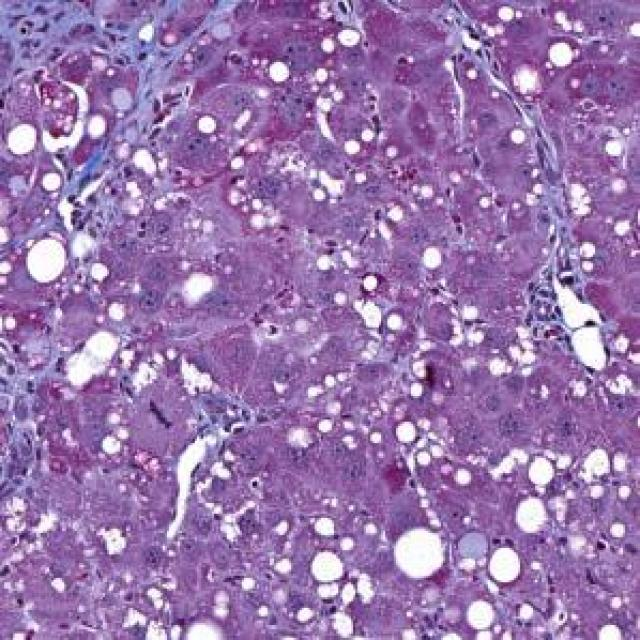fibrosis: (7, 2, 169, 105)
